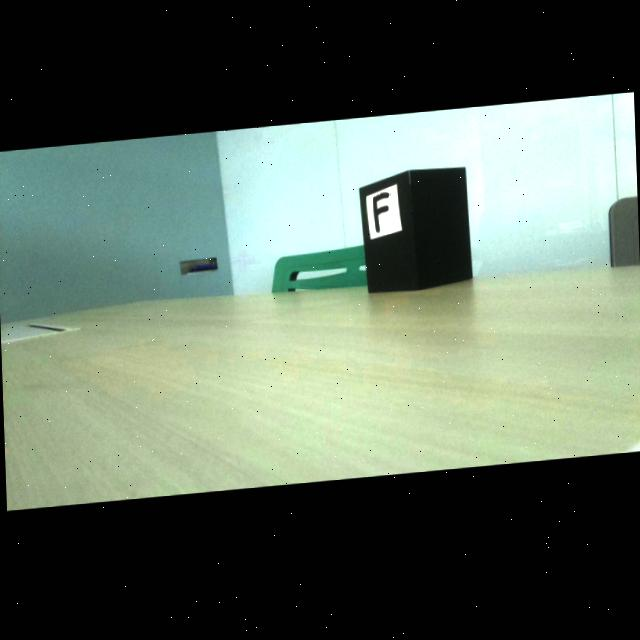F: (373, 197, 390, 236)
